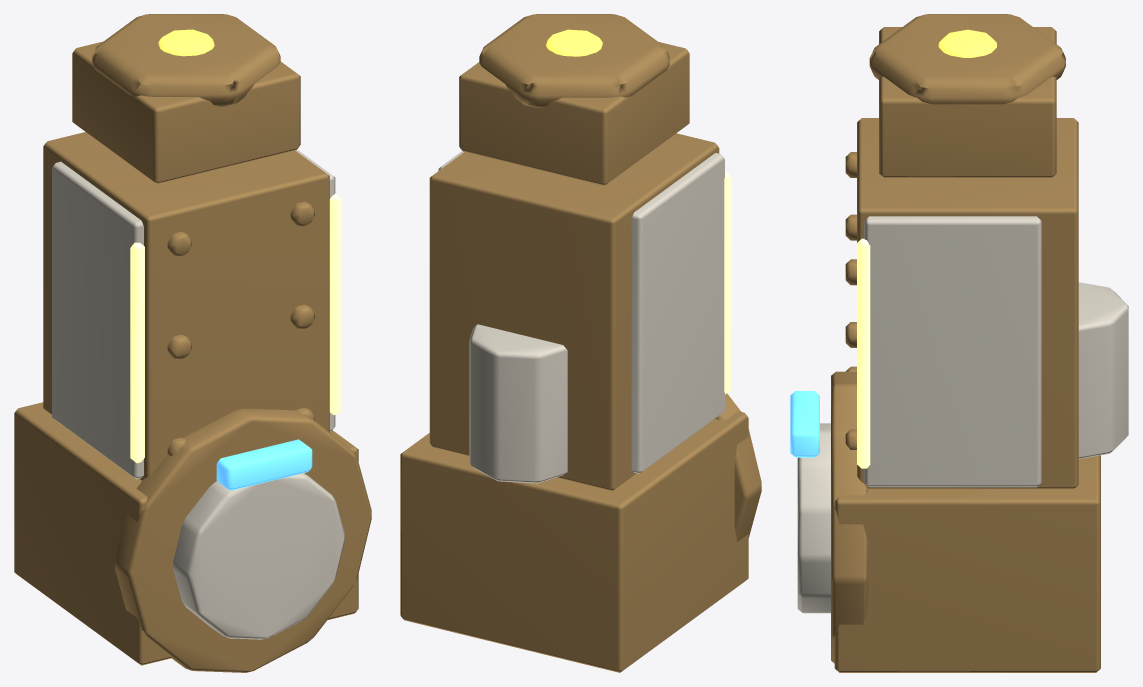
Rendered from sovereign_brass_arm_pistonfist.glb.
3 renders of one model, left to right at view 1: azimuth 30°, elevation 25°; view 2: azimuth 150°, elevation 25°; view 3: azimuth 270°, elevation 25°, orthographic. The views are drawn at different scales.
Visible parts, largest first — view 1: sovereign_brass_arm_pistonfist; view 2: sovereign_brass_arm_pistonfist; view 3: sovereign_brass_arm_pistonfist.
Part boxes in pixels (x1=…): sovereign_brass_arm_pistonfist: x1=14, y1=14, x2=371, y2=672; sovereign_brass_arm_pistonfist: x1=400, y1=14, x2=761, y2=672; sovereign_brass_arm_pistonfist: x1=790, y1=14, x2=1128, y2=672.
Size of the model in its own units: 0.3966 by 0.9108 by 0.4575.
1 material, 1 textured.
